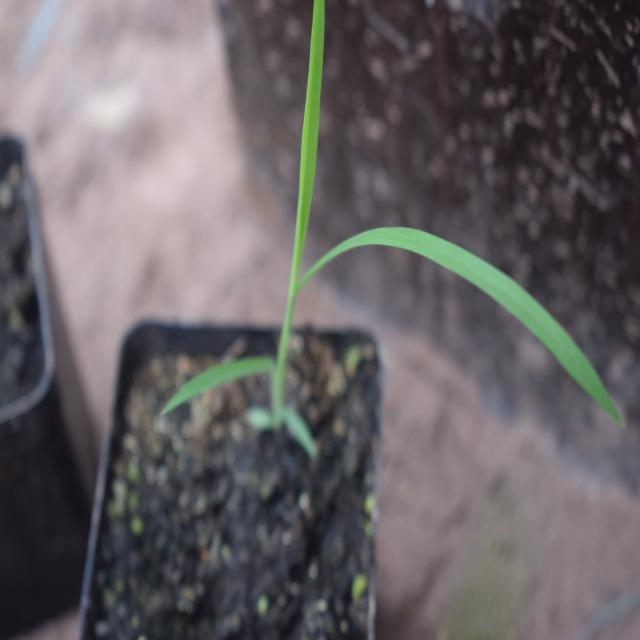crabgrass: (178, 18, 613, 431)
